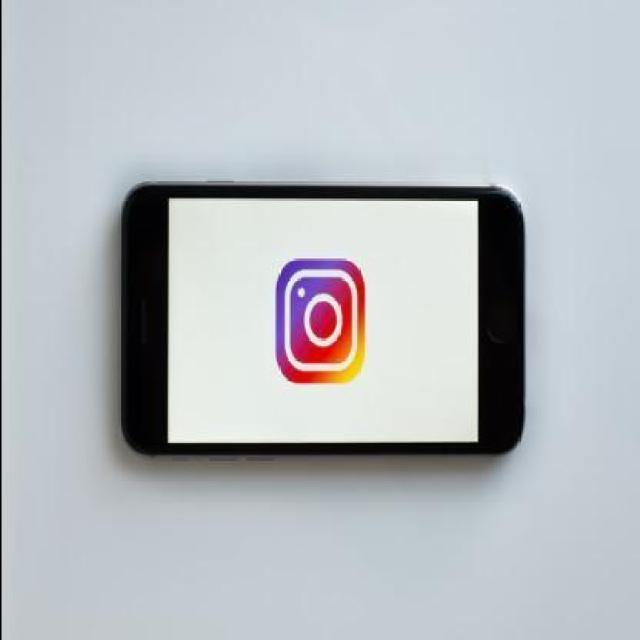cellphone: (116, 176, 526, 462)
